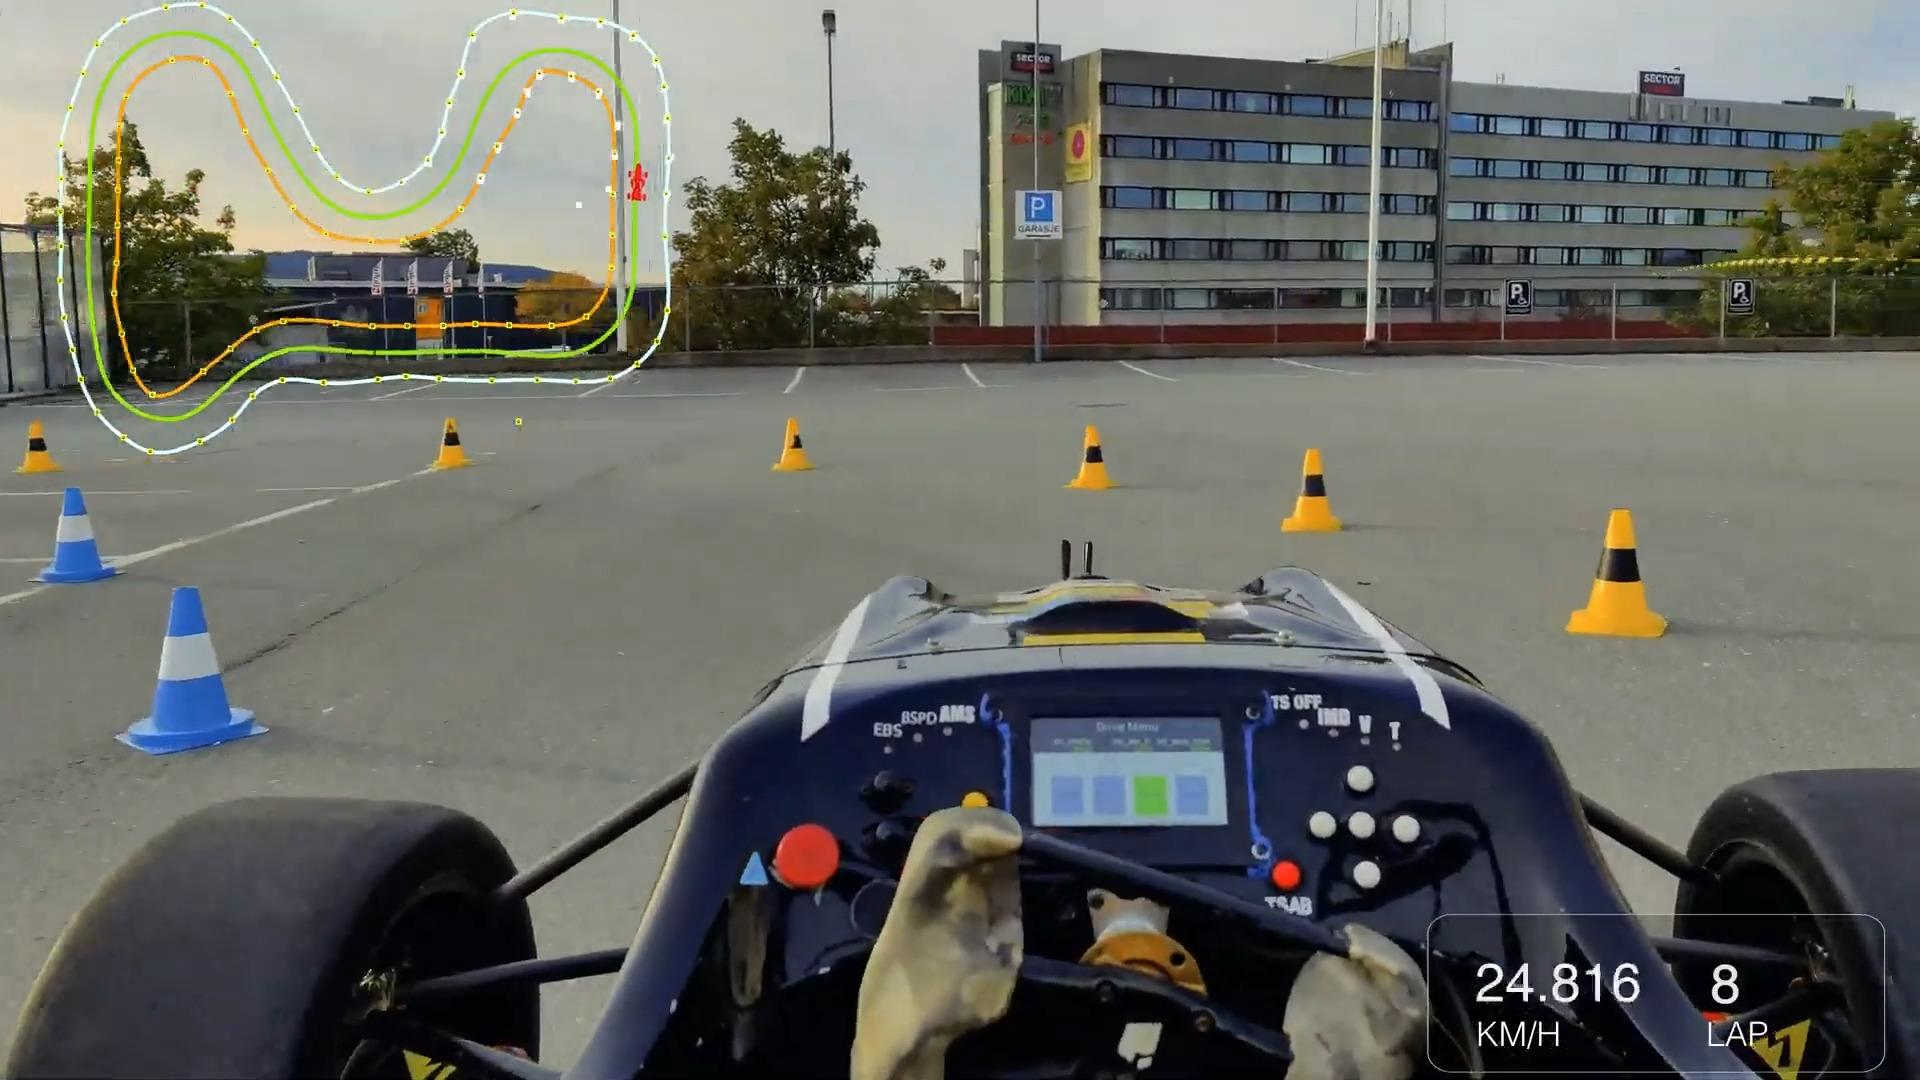blue_cone: (128, 585, 260, 745), (28, 485, 123, 588)
yellow_cone: (1549, 485, 1683, 667), (1259, 431, 1369, 553), (752, 406, 833, 485), (1065, 413, 1127, 495), (429, 410, 476, 479), (21, 417, 59, 480)
